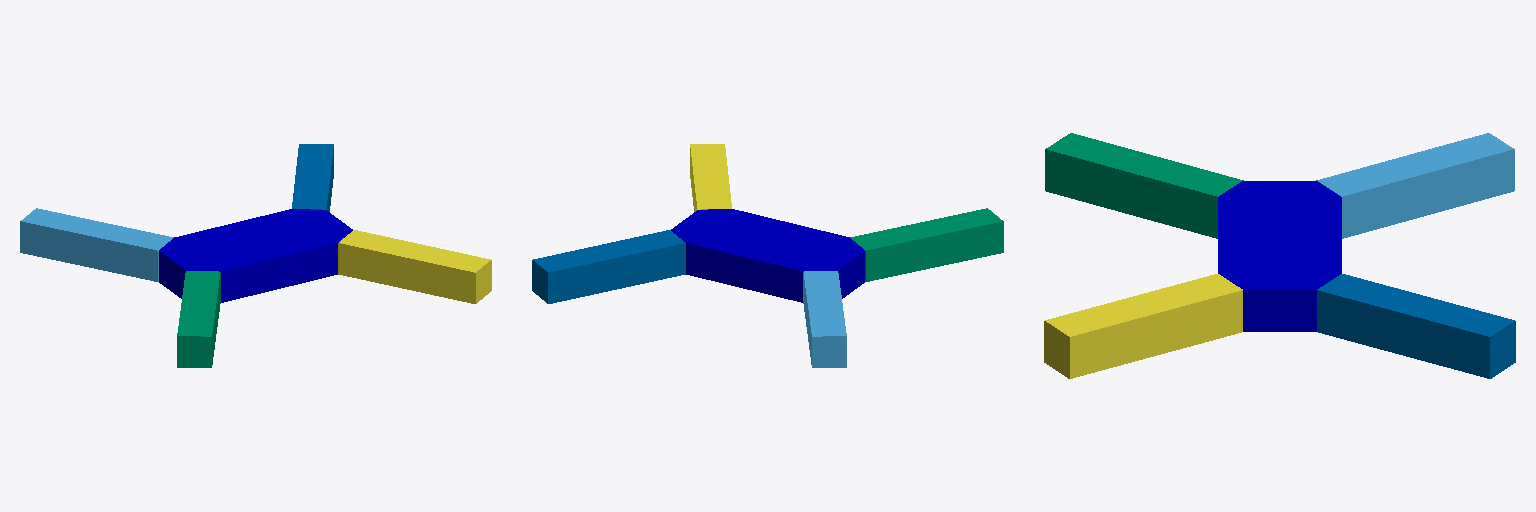
robot.urdf — 4ArmDrone:
<?xml version="1.0"?>

<robot name="4ArmDrone">

  <material name="blue">
    <color rgba="0 0 0.8 1"/>
  </material>

  <link name="base_link">
    
    <visual name="base_link_visual">
      <origin xyz="0 0 0" rpy="1.57079 0 0"/>
      <geometry>
        <mesh filename="package://urdf_tutorial/meshes/Gazebo_Base_Body.stl"
              scale="0.001 0.001 0.001" />
      </geometry>
     <material name="blue"/>
    </visual>

    <collision>
      <origin xyz="0 0 0" rpy="1.57079 0 0"/>
      <geometry>
        <mesh filename="package://urdf_tutorial/meshes/Gazebo_Base_Body.stl"
              scale="0.001 0.001 0.001" />
      </geometry>
    </collision>

  </link>

  <link name="arm_1">

    <visual name="arm_1_link_visual">
      <geometry>
        <mesh filename="package://urdf_tutorial/meshes/Gazebo_Base_arm.stl"
              scale="0.001 0.001 0.001"/>
      </geometry>
    </visual>

    <collision>
      <geometry>
        <mesh filename="package://urdf_tutorial/meshes/Gazebo_Base_arm.stl"
              scale="0.001 0.001 0.001"/>
      </geometry>
    </collision>

  </link>  

  <link name="arm_2">

    <visual name="arm_2_link_visual">
      <geometry>
      <mesh filename="package://urdf_tutorial/meshes/Gazebo_Base_arm.stl"
            scale="0.001 0.001 0.001"/>
      </geometry>
      <origin xyz="0 -0.035 0"/>
    </visual>

    <collision>
      <origin xyz="0 -0.035 0"/>
      <geometry>
        <mesh filename="package://urdf_tutorial/meshes/Gazebo_Base_arm.stl"
              scale="0.001 0.001 0.001"/>
      </geometry>

    </collision>
  </link>  

  <link name="arm_3">

    <visual name="arm_3_link_visual">
      <geometry>
        <mesh filename="package://urdf_tutorial/meshes/Gazebo_Base_arm.stl"
              scale="0.001 0.001 0.001"/>
      </geometry>
    </visual>

    <collision>
      <geometry>
        <mesh filename="package://urdf_tutorial/meshes/Gazebo_Base_arm.stl"
              scale="0.001 0.001 0.001"/>
      </geometry>
    </collision>

  </link>  

  <link name="arm_4">

    <visual name="arm_4_link_visual">
      <geometry>
        <mesh filename="package://urdf_tutorial/meshes/Gazebo_Base_arm.stl"
              scale="0.001 0.001 0.001"/>
      </geometry>
      <origin xyz="0 -0.035 0"/>
    </visual>

    <collision>
      <geometry>
        <mesh filename="package://urdf_tutorial/meshes/Gazebo_Base_arm.stl"
              scale="0.001 0.001 0.001"/>
      </geometry>
      <origin xyz="0 -0.035 0"/>

    </collision>

  </link>  


  <joint name="base_to_arm_1" type="revolute">
    <parent link="base_link"/>
    <child link="arm_1"/>
    <origin  rpy="0 0 2.15" xyz="0.029 0 0"/>
    <axis xyz="0.0 1.0 0.0"/>
    <limit effort="1000.0" lower="0.0" upper="1.74" velocity="1000.0"/>
  </joint>

  <joint name="base_to_arm_2" type="revolute">
    <parent link="base_link"/>
    <child link="arm_2"/>
    <origin  rpy="0 0 -2.15" xyz="0.029 -0.093 0"/>
    <axis xyz="0.0 1.0 0.0"/>
    <limit effort="1000.0" lower="0.0" upper="1.74" velocity="1000.0"/>
  </joint>

  <joint name="base_to_arm_3" type="revolute">
    <parent link="base_link"/>
    <child link="arm_3"/>
    <origin  rpy="0 0 -1" xyz="0.165 -0.093 0"/>
    <axis xyz="0.0 1.0 0.0"/>
    <limit effort="1000.0" lower="0.0" upper="1.74" velocity="1000.0"/>
  </joint>


  <joint name="base_to_arm_4" type="revolute">
    <parent link="base_link"/>
    <child link="arm_4"/>
    <origin  rpy="0 0 1" xyz="0.165 0.0 0"/>
    <axis xyz="0.0 1.0 0.0"/>
    <limit effort="1000.0" lower="0.0" upper="1.74" velocity="1000.0"/>
  </joint>


  <link name="prop_1">
    <visual name="prop_1_link_visual">
      <geometry>
        <mesh filename="package://urdf_tutorial/meshes/1345_prop_ccw.stl"/>
      </geometry>
      <origin  rpy="0 0 0" xyz="-0.03 -0.17 0"/>
    </visual> 
  </link> 

  <joint name="prop_to_arm_1" type="continuous">
    <parent link="arm_1"/>
    <child link="prop_1"/>
    <origin  rpy="0 0 0" xyz="0.17 0.02 0.03"/>
    <axis xyz="0.0 0.0 1"/>
  </joint>

  <link name="prop_2">
    <visual name="prop_2_link_visual">
      <geometry>
        <mesh filename="package://urdf_tutorial/meshes/1345_prop_cw.stl"/>
      </geometry>
      <origin  rpy="0 0 0" xyz="-0.03 -0.17 0"/>
    </visual>
  </link> 

  <joint name="prop_to_arm_2" type="continuous">
    <parent link="arm_2"/>
    <child link="prop_2"/>
    <origin  rpy="0 0 0" xyz="0.17 -0.02 0.03"/>
    <axis xyz="0.0 0.0 -1"/>
  </joint>

  <link name="prop_3">
    <visual name="prop_3_link_visual">
      <geometry>
        <mesh filename="package://urdf_tutorial/meshes/1345_prop_ccw.stl"/>
      </geometry>
      <origin  rpy="0 0 0" xyz="-0.03 -0.17 0"/>
    </visual>
  </link> 

  <joint name="prop_to_arm_3" type="continuous">
    <parent link="arm_3"/>
    <child link="prop_3"/>
    <origin  rpy="0 0 0" xyz="0.17 0.02 0.03"/>
    <axis xyz="0.0 0.0 1"/>
  </joint>

  <link name="prop_4">
    <visual name="prop_4_link_visual">
      <geometry>
        <mesh filename="package://urdf_tutorial/meshes/1345_prop_cw.stl"/>
      </geometry>
      <origin  rpy="0 0 0" xyz="-0.03 -0.17 0"/>
    </visual>
  </link> 

  <joint name="prop_to_arm_4" type="continuous">
    <parent link="arm_4"/>
    <child link="prop_4"/>
    <origin  rpy="0 0 0" xyz="0.17 -0.02 0.03"/>
    <axis xyz="0.0 0.0 -1"/>
  </joint>

</robot>

--- Facts derived from the render (not from the file) ---
3 views of the same robot in one strip: view 1: azimuth 30°, elevation 25°; view 2: azimuth 150°, elevation 25°; view 3: azimuth 270°, elevation 25° (orthographic).
Robot: 4ArmDrone — 9 links, 8 joints (4 revolute, 4 continuous); root link base_link; default pose: every joint at zero.
Links seen in each view (by area): view 1: base_link, arm_3, arm_1, arm_2, arm_4; view 2: base_link, arm_4, arm_2, arm_1, arm_3; view 3: base_link, arm_3, arm_4, arm_1, arm_2.
Link boxes in pixels (box(x1,y1,x2,y2)): base_link: box(159, 209, 352, 302); arm_3: box(338, 230, 491, 303); arm_1: box(20, 208, 173, 281); arm_2: box(177, 271, 220, 367); arm_4: box(292, 144, 333, 211); base_link: box(671, 209, 864, 302); arm_4: box(532, 230, 685, 303); arm_2: box(850, 208, 1003, 281); arm_1: box(803, 271, 846, 367); arm_3: box(690, 144, 731, 211); base_link: box(1218, 181, 1341, 331); arm_3: box(1044, 274, 1242, 378); arm_4: box(1317, 274, 1515, 378); arm_1: box(1316, 133, 1514, 238); arm_2: box(1045, 133, 1243, 238).
Bounding box of the posed robot: 0.3633 × 0.3539 × 0.035 m (x, y, z).
Meshes: 4 distinct files referenced, 5 mesh visuals loaded (2 binary STL); not drawn: 4 (reference not matched to a file when rendering).